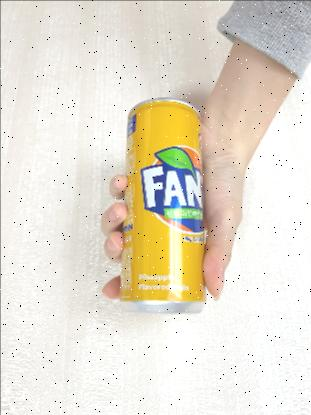Can: (116, 94, 208, 315)
